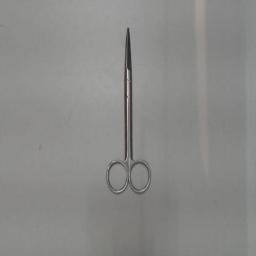Curved Mayo Scissors: (102, 21, 154, 199)
